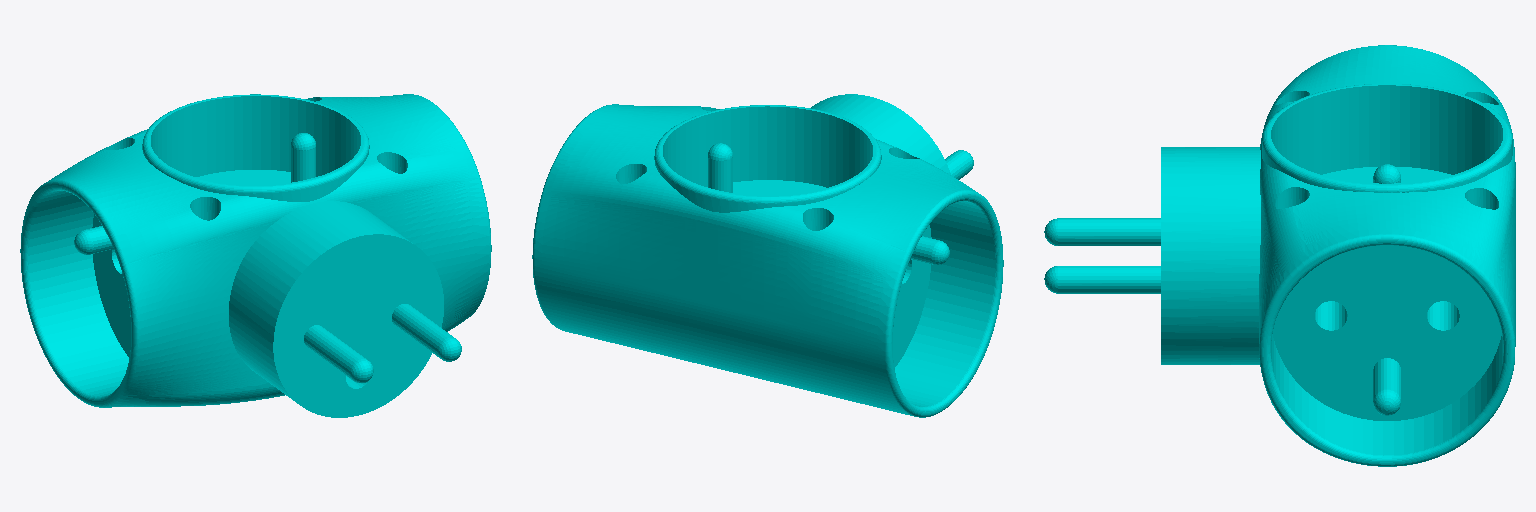
robot.urdf — obj_000022:
<?xml version="1.0" ?>
<robot name="obj_000022">
   <link name="base_link">
      <visual>
         <geometry>
        <mesh filename="package://agimus_demo_07_tiago_pro_pick_and_drop/urdf/obj_22.obj"/>
         </geometry>
         <material name="mat_part0">
            <color rgba="0.0 0.9 0.9 1.0"/>
         </material>
      </visual>
      <collision>
         <geometry>
        <mesh filename="package://agimus_demo_07_tiago_pro_pick_and_drop/urdf/obj_22.obj"/>
         </geometry>
      </collision>
      <inertial>
         <origin rpy="0 0 0" xyz="0.0 0.0 0.0"/>
         <mass value="0.1"/>
         <inertia ixx="1" ixy="0" ixz="0" iyy="1" iyz="0" izz="1"/>
      </inertial>
   </link>
</robot>

--- Facts derived from the render (not from the file) ---
Views: 3 orthographic renders of the robot side by side, from view 1: azimuth 30°, elevation 25°; view 2: azimuth 150°, elevation 25°; view 3: azimuth 270°, elevation 25°.
Robot: obj_000022 — 1 links, 0 joints (none); root link base_link; default pose: all joints at 0.
Visible links, largest first — view 1: base_link; view 2: base_link; view 3: base_link.
Link boxes in pixels (left/top/right/bottom): base_link: left=20, top=94, right=491, bottom=417; base_link: left=532, top=94, right=1003, bottom=417; base_link: left=1044, top=45, right=1515, bottom=466.
Bounding box of the posed robot: 0.0769 × 0.079 × 0.044 m (x, y, z).
Meshes: 1 distinct files referenced, 1 mesh visuals loaded (1 OBJ).
